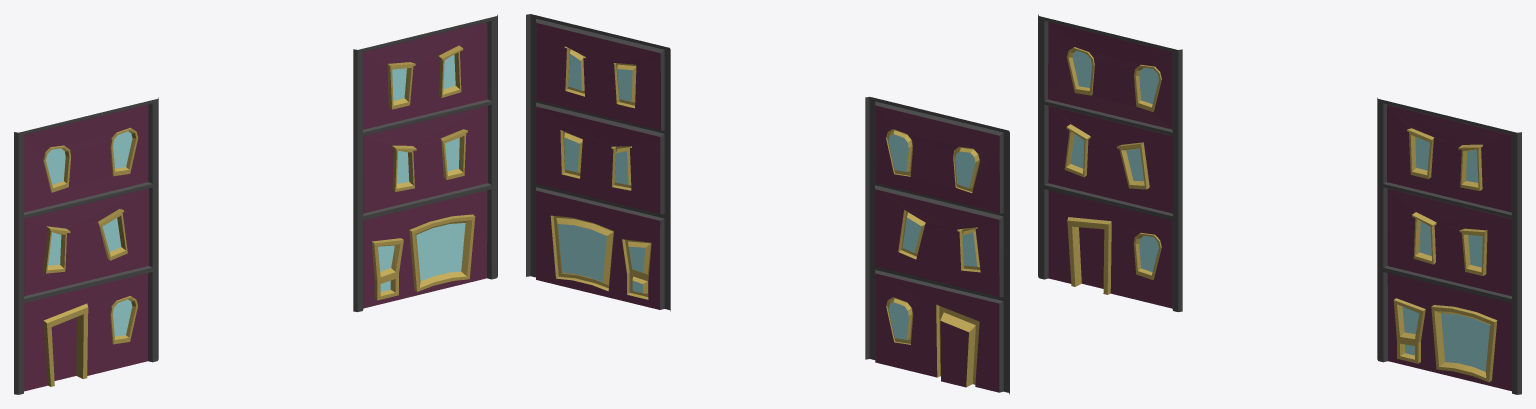
The model's file is CFT_Facade_002.FBX.
3 renders of one model, left to right at view 1: azimuth 30°, elevation 25°; view 2: azimuth 150°, elevation 25°; view 3: azimuth 330°, elevation 25°, orthographic.
Parts seen in each view (by area): view 1: Boutique_001, Boutique_002; view 2: Boutique_002, Boutique_001; view 3: Boutique_001, Boutique_002.
Boxes of the visible parts, bbox=[...] form: Boutique_001: bbox=[353, 14, 497, 312]; Boutique_002: bbox=[14, 97, 158, 394]; Boutique_002: bbox=[865, 96, 1009, 394]; Boutique_001: bbox=[526, 14, 670, 311]; Boutique_001: bbox=[1377, 97, 1521, 394]; Boutique_002: bbox=[1038, 14, 1182, 312].
Bounding box in the file's own units: 1496 × 775 × 38.99.
